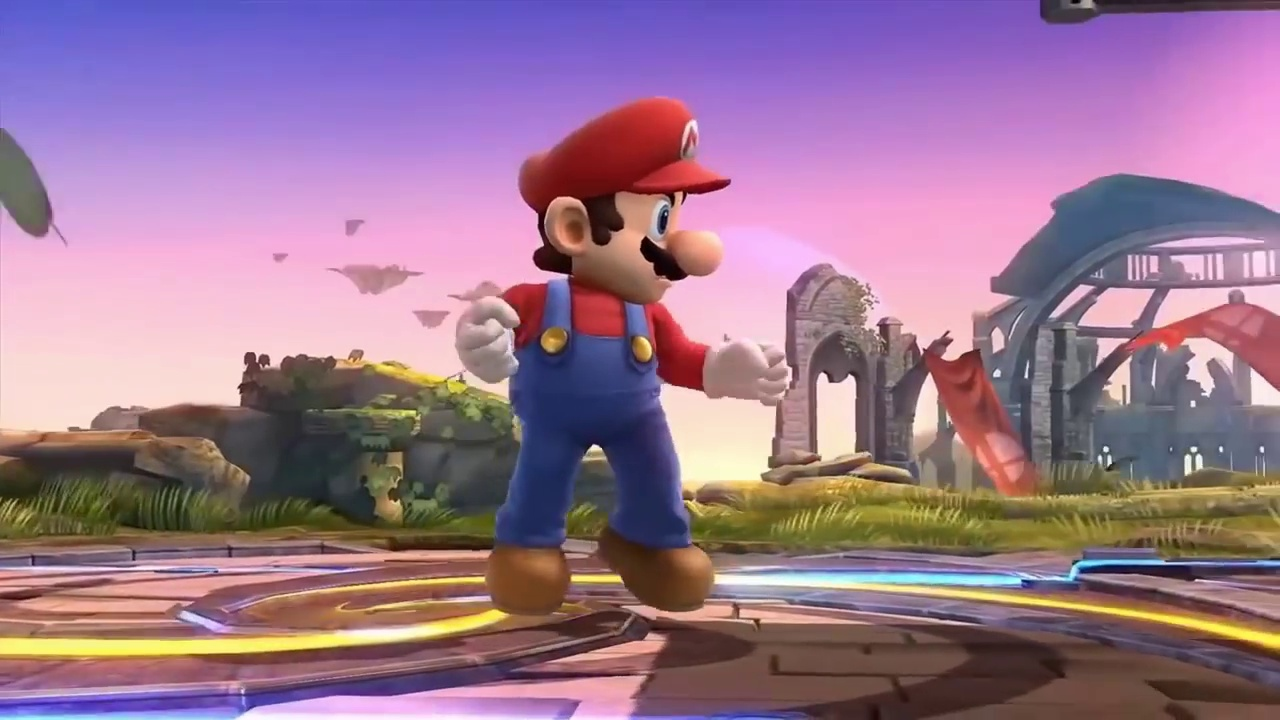Mario: (454, 96, 789, 613)
